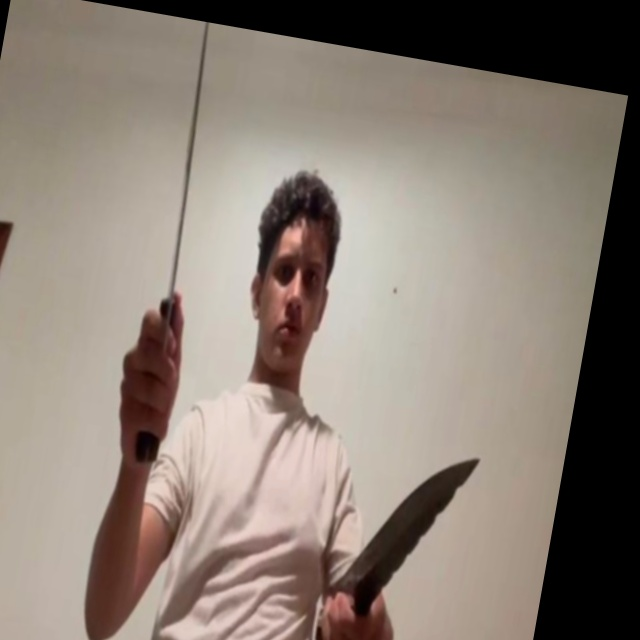Sharp-Object: (335, 434, 482, 611), (146, 30, 222, 349)
